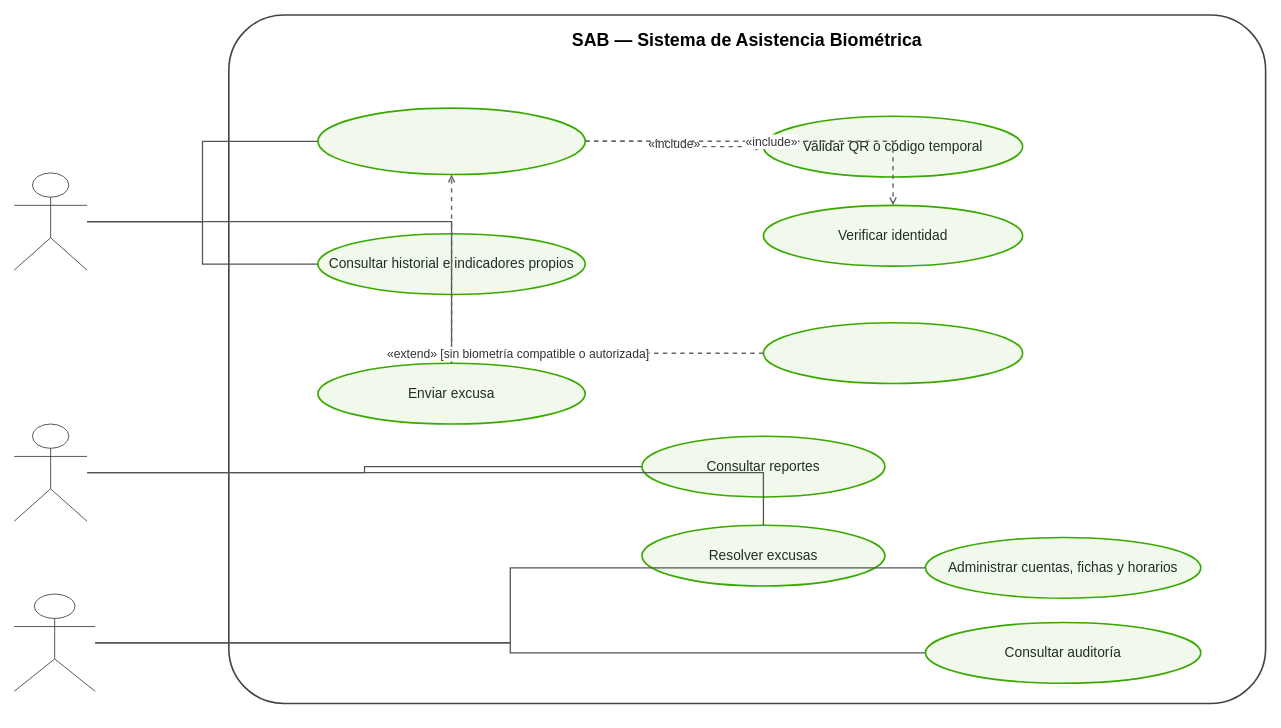
The diagram is 1281 pixels wide and 728 high, and some of its shapes have lost their labels. The centre of each missing label's shape, as x and y in pixels:
"Admin" belongs at [50,472].
"Aprendiz" belongs at [50,221].
"Registrar asistencia" belongs at [451,141].
"Solicitar alternativa supervisada" belongs at [892,353].
"Superadmin" belongs at [54,642].
